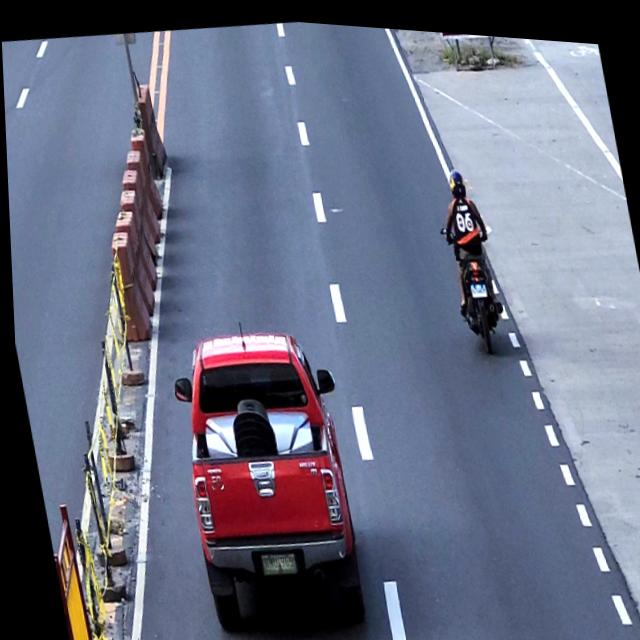Car: (158, 306, 374, 639)
License-Plate: (253, 543, 295, 576), (468, 274, 486, 293)
Motorcycle: (437, 212, 511, 352)
